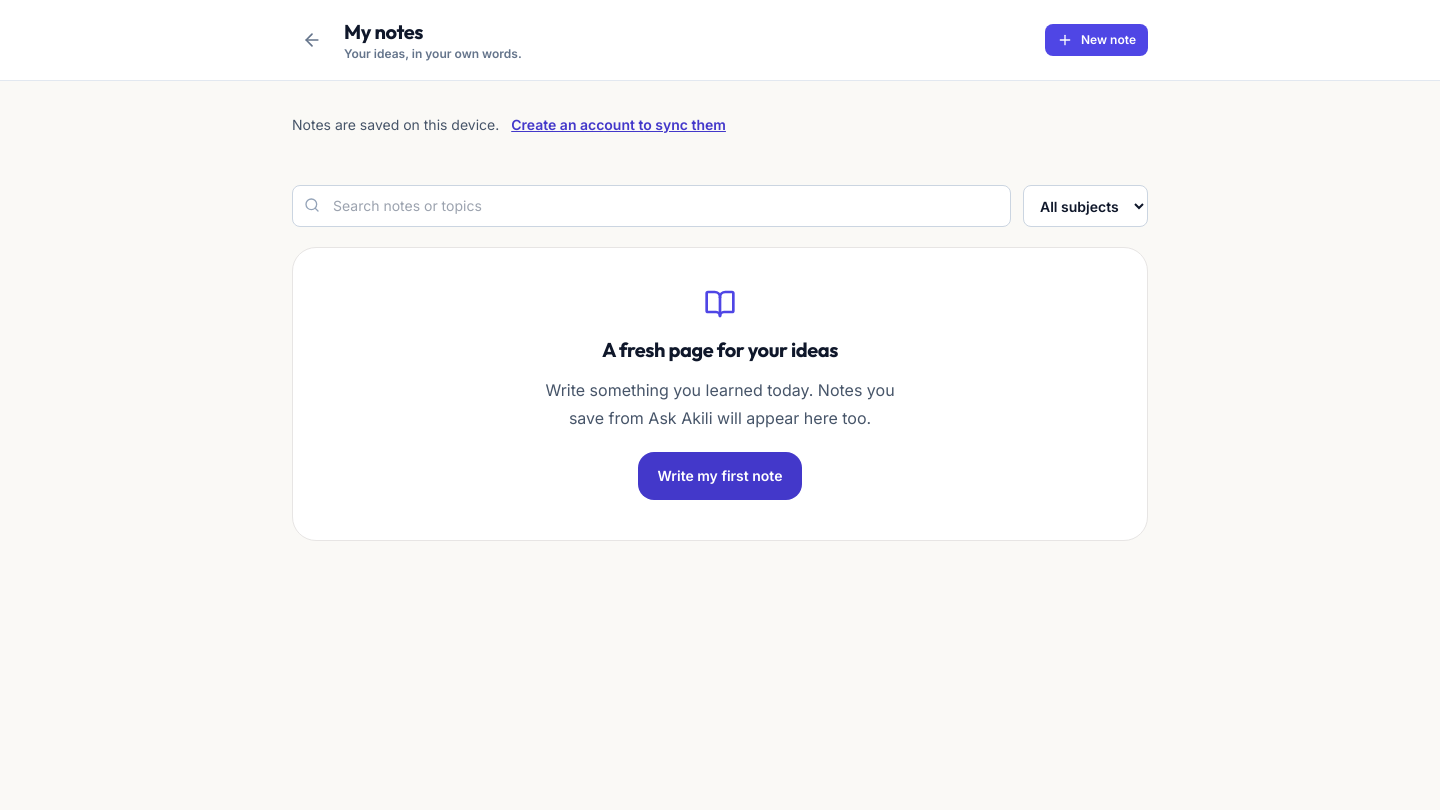
Test: Learner notebook › preserves the draft when the editor is closed and reopened
Click the button "New note". click: point(1096, 40)
box: [1045,24,1148,56]
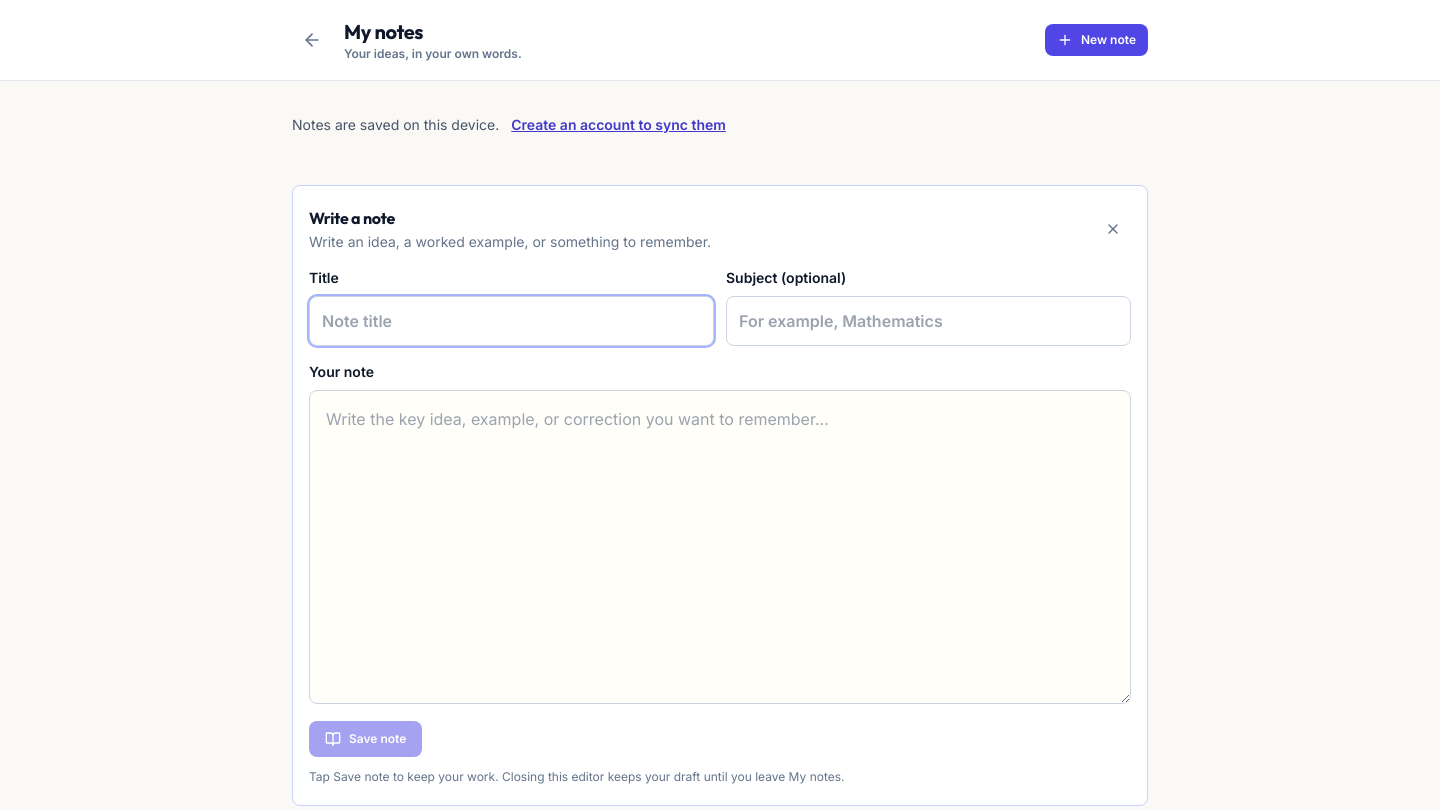
Type "My draft" into the field labelled "Title". click: point(512, 321)
box: [309,296,714,346]
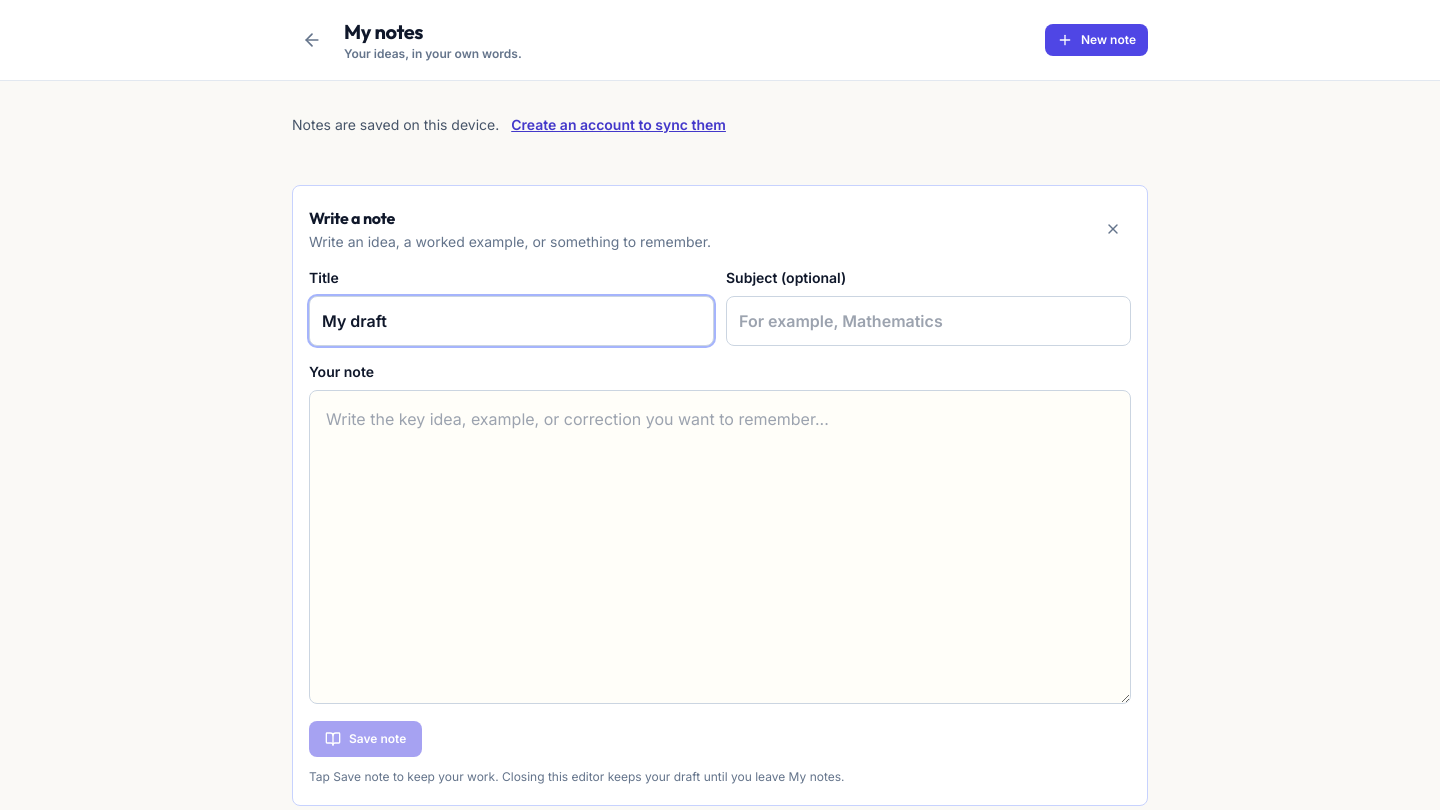
Click the button named "Close note editor". click: point(1113, 229)
box: [1095,211,1131,247]
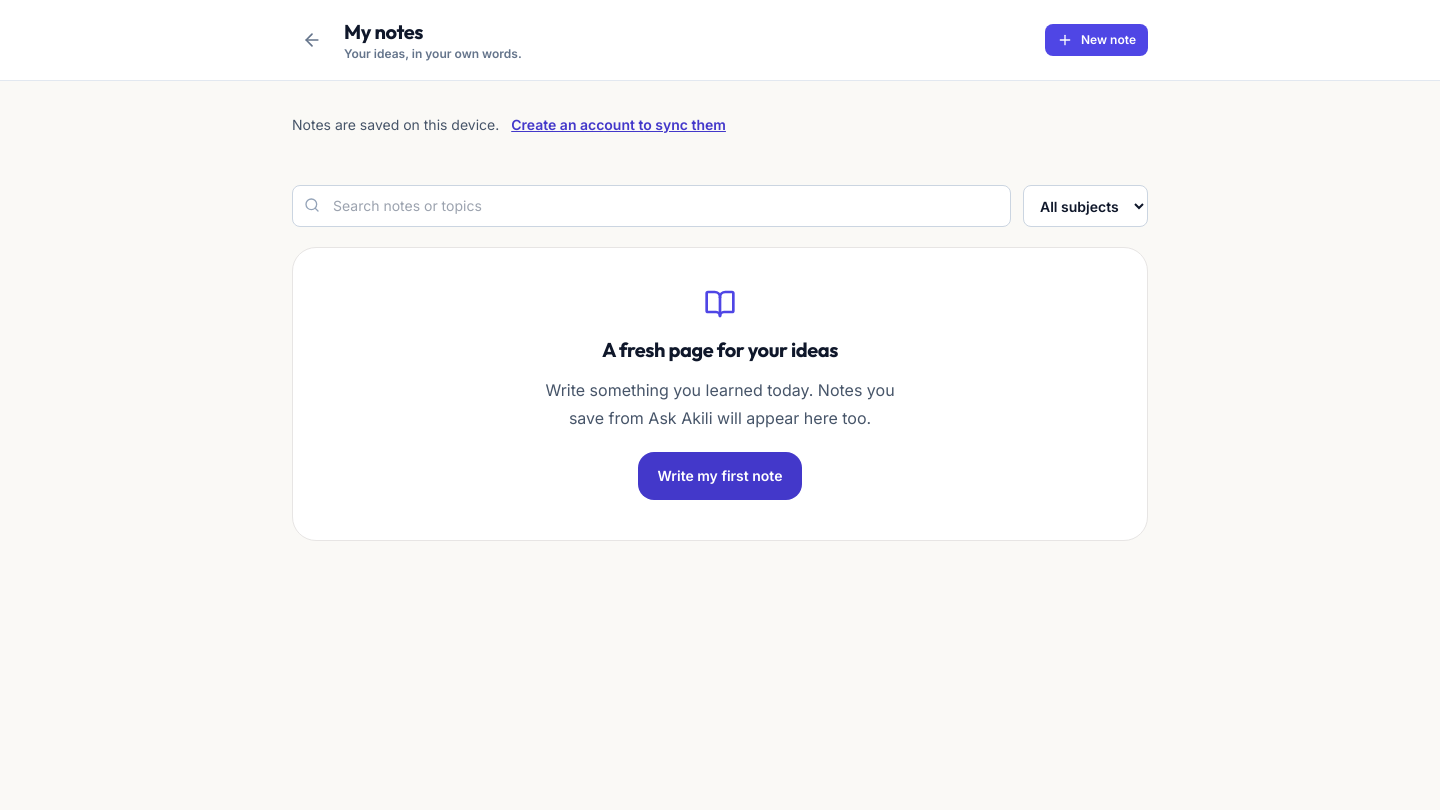
Click the button "New note". click: point(1096, 40)
box: [1045,24,1148,56]
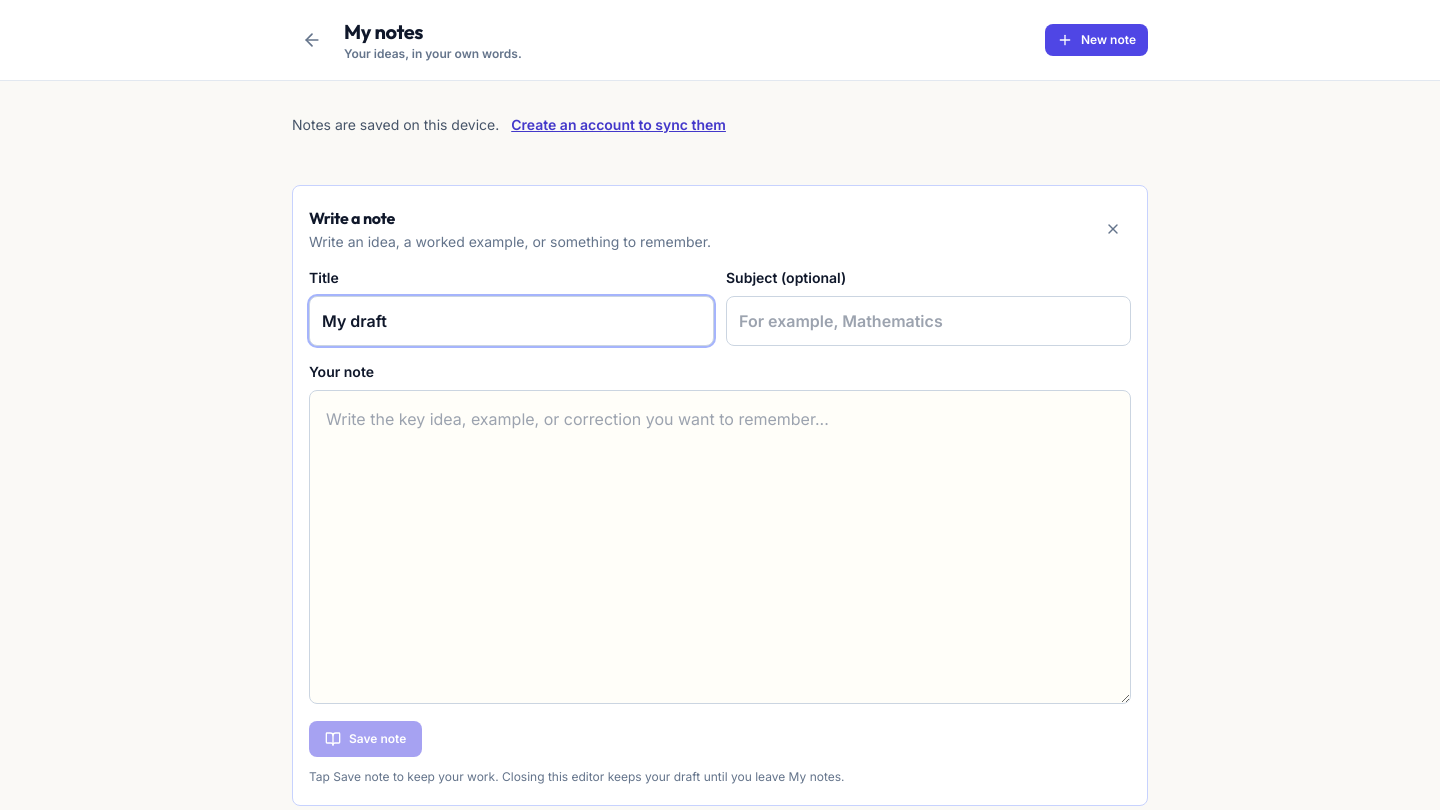
Now the field labelled "Title" holds "My draft", box [309,296,714,346]
